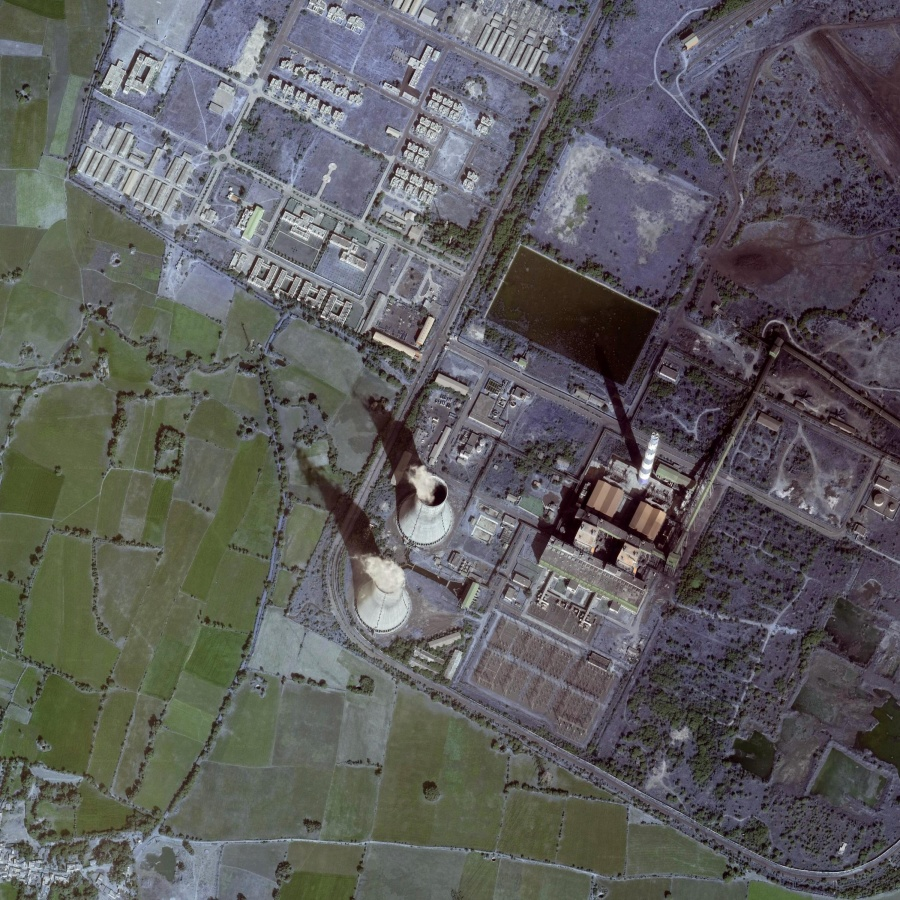PowerPlant: (322, 229, 759, 687)
